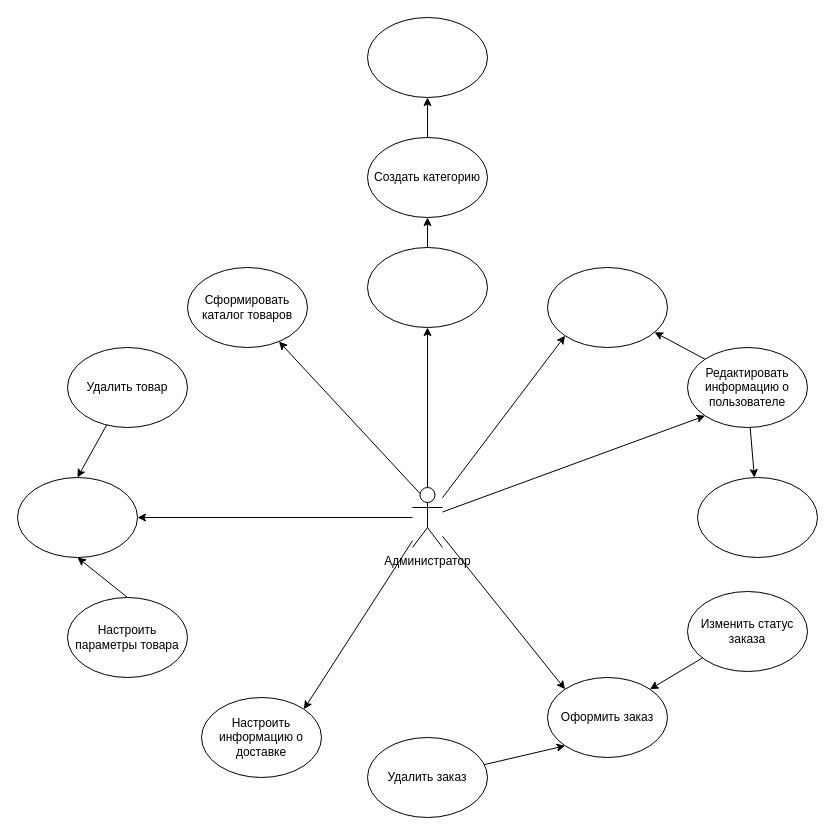
Image size: 835x835. Some labels were removed from this diagram. The shapes that lost their labels are listed below. From the top down, each one's centre as x and y in pixels, then its label:
(x=427, y=57): Удалить категорию
(x=427, y=287): Редактировать категорию
(x=607, y=307): Добавить пользователя
(x=77, y=517): Добавить товар
(x=757, y=517): Удалить пользователя
